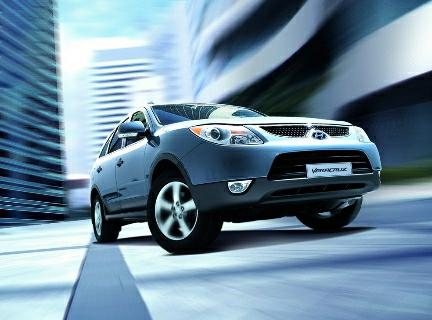car: (66, 88, 392, 261)
